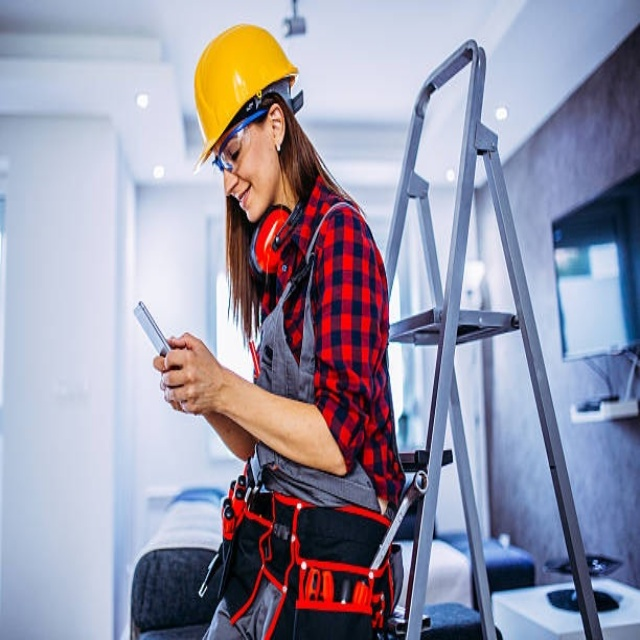Gafas: (213, 106, 269, 174)
Sin_guantes: (157, 332, 226, 417)
Sin_mascara: (229, 179, 256, 224)
